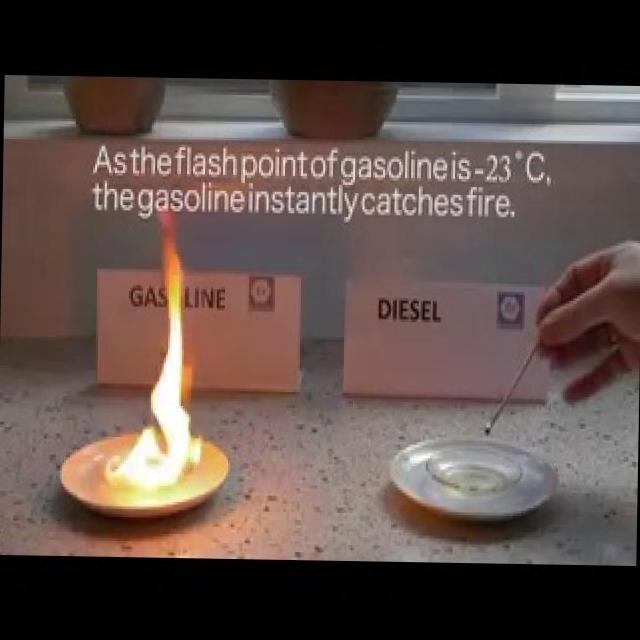Fire: (110, 205, 211, 494)
